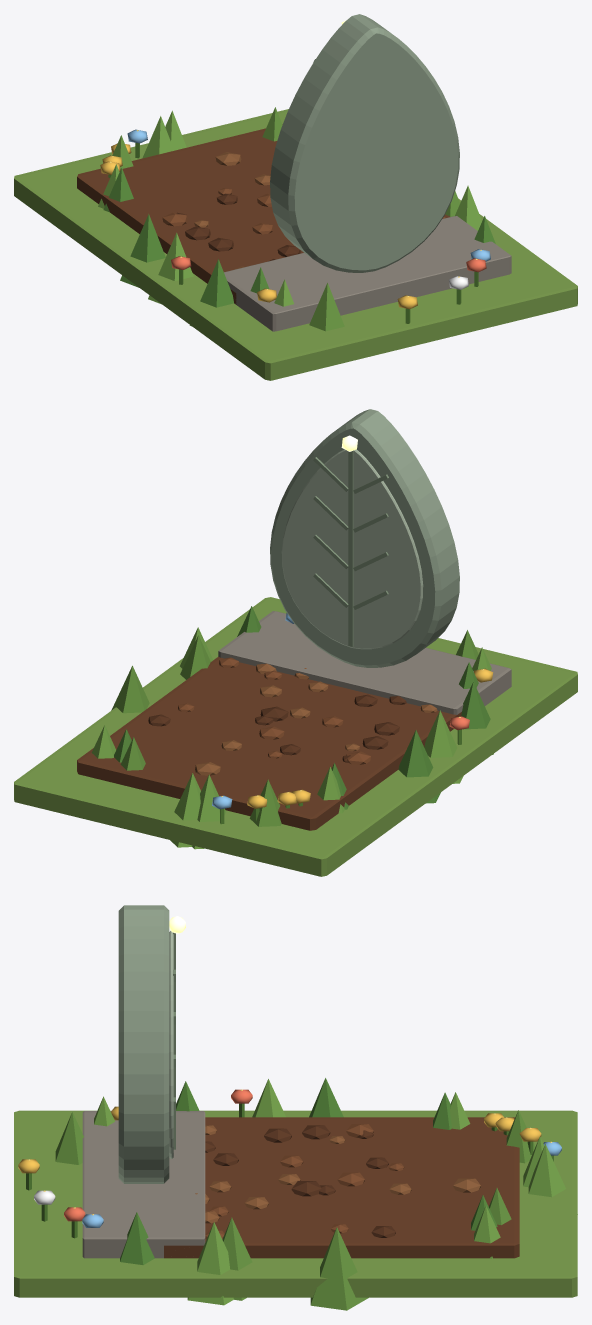
The model's file is gravestone_leaf.glb.
The picture shows the model from 3 angles, top to bottom: view 1: azimuth 30°, elevation 25°; view 2: azimuth 150°, elevation 25°; view 3: azimuth 270°, elevation 25°; orthographic projection. The views are drawn at different scales.
Parts seen in each view (by area): view 1: gravestone_leaf; view 2: gravestone_leaf; view 3: gravestone_leaf.
Part boxes in pixels (x1,y1,x2,y2): gravestone_leaf: [14, 14, 577, 380]; gravestone_leaf: [14, 409, 577, 876]; gravestone_leaf: [14, 905, 577, 1310].
Bounding box in the file's own units: 1.15 × 0.9542 × 1.56.
